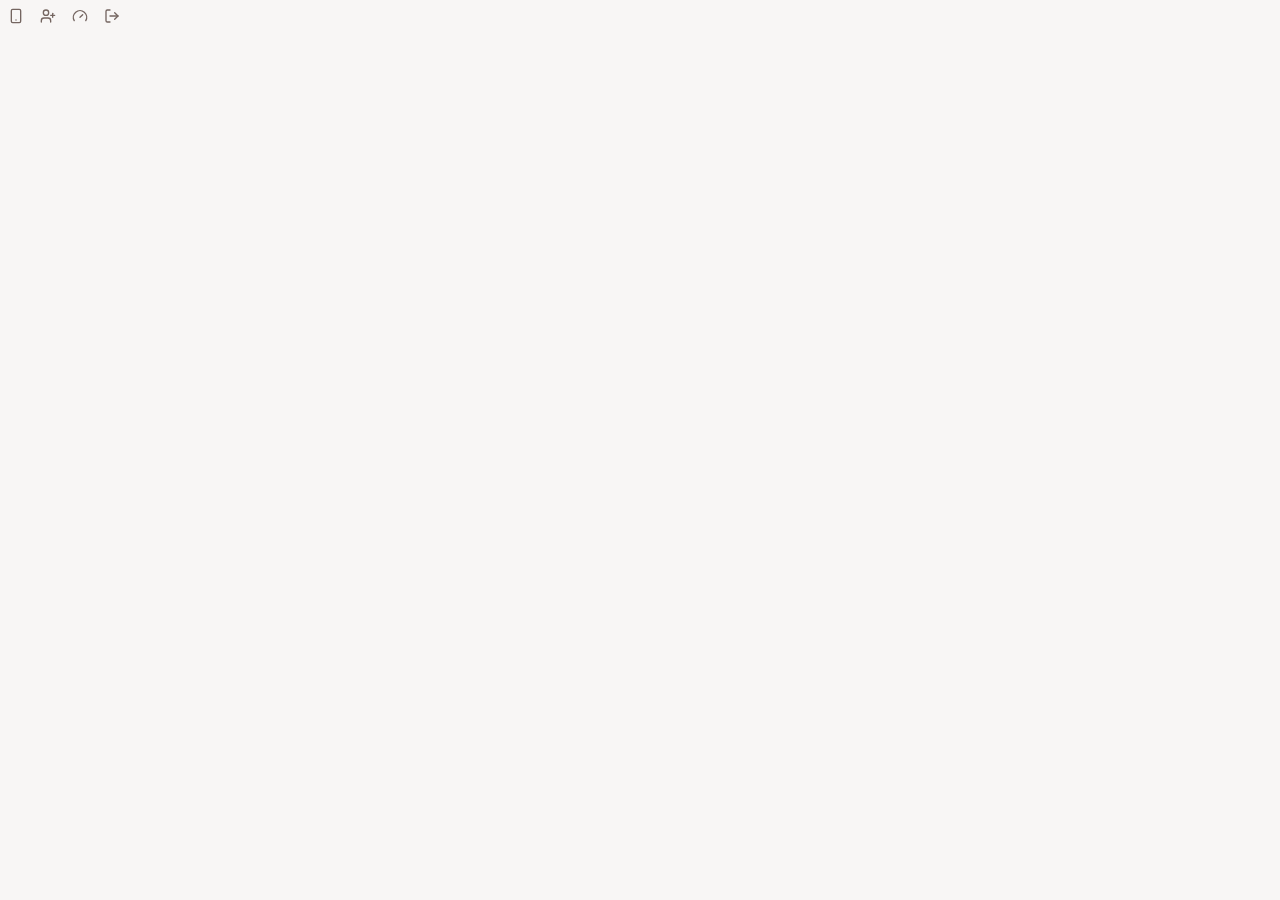
Scenario: AuthControls self-invite guard › allows inviting a different username
Step 1. Click the button named "Invite a user" → (48,16), box [32, 0, 64, 32]
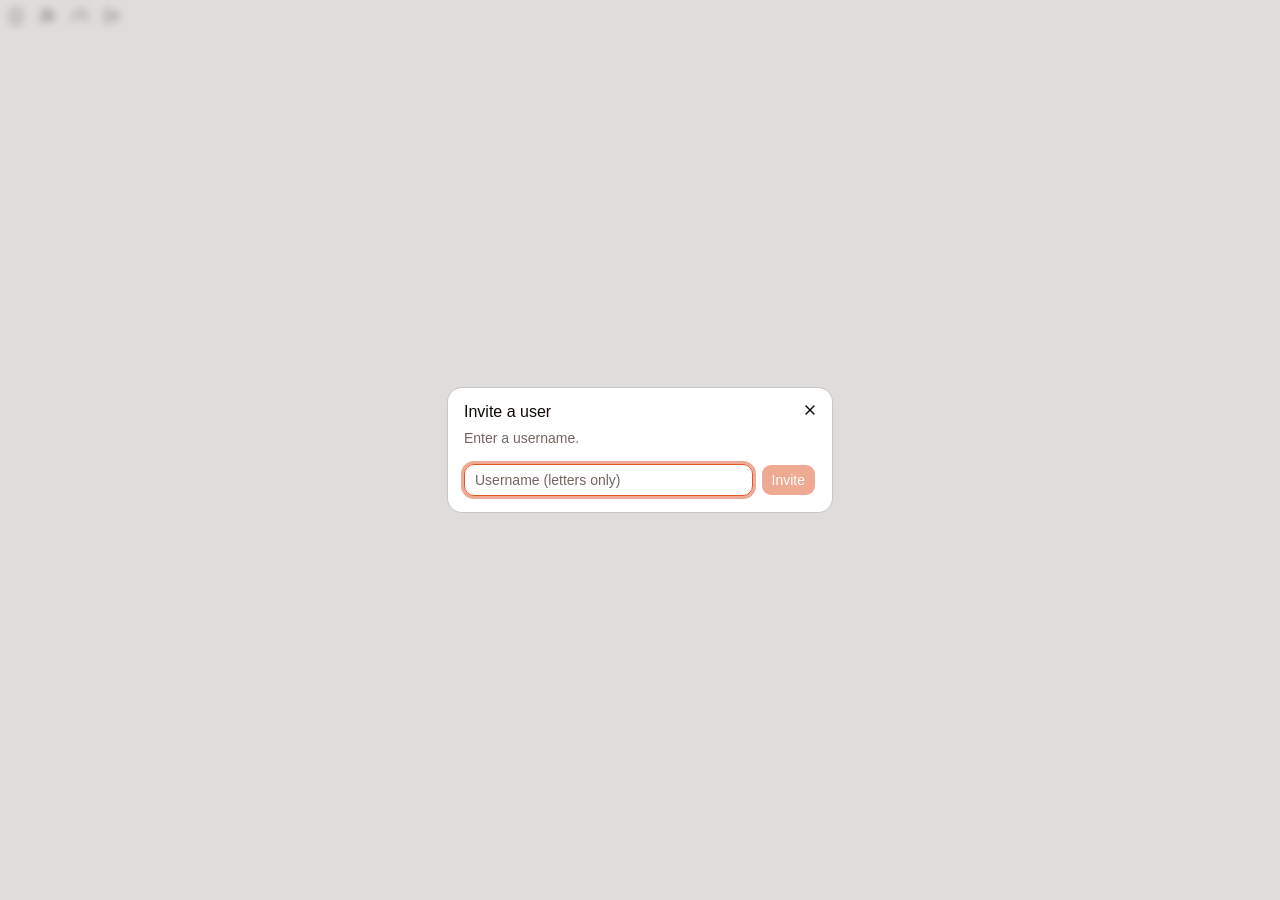
Step 2. Type "bob" into the field with placeholder "Username (letters only)" → (608,480), box [464, 464, 752, 496]
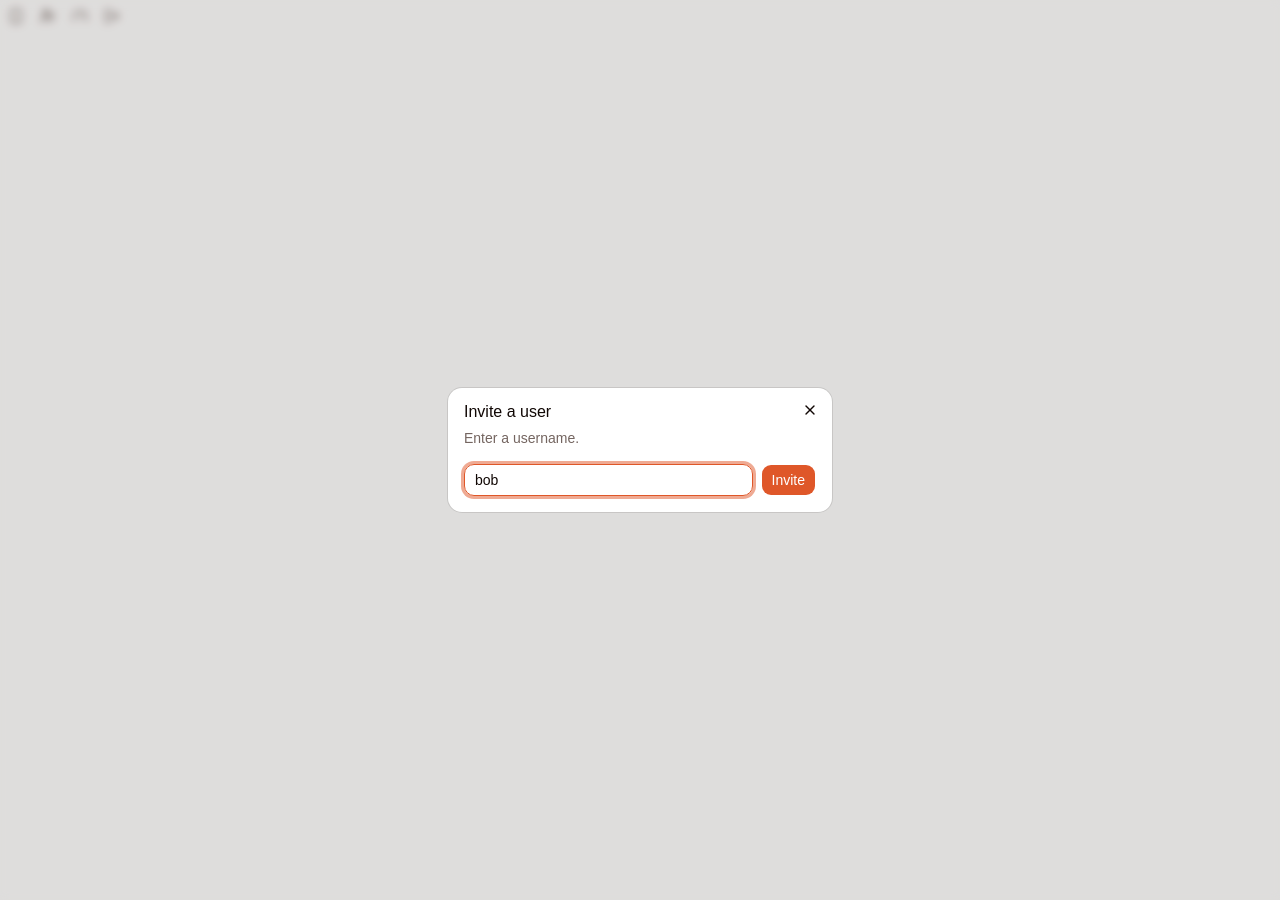
expect the button "Invite" is enabled: met, box [760, 464, 816, 496]
